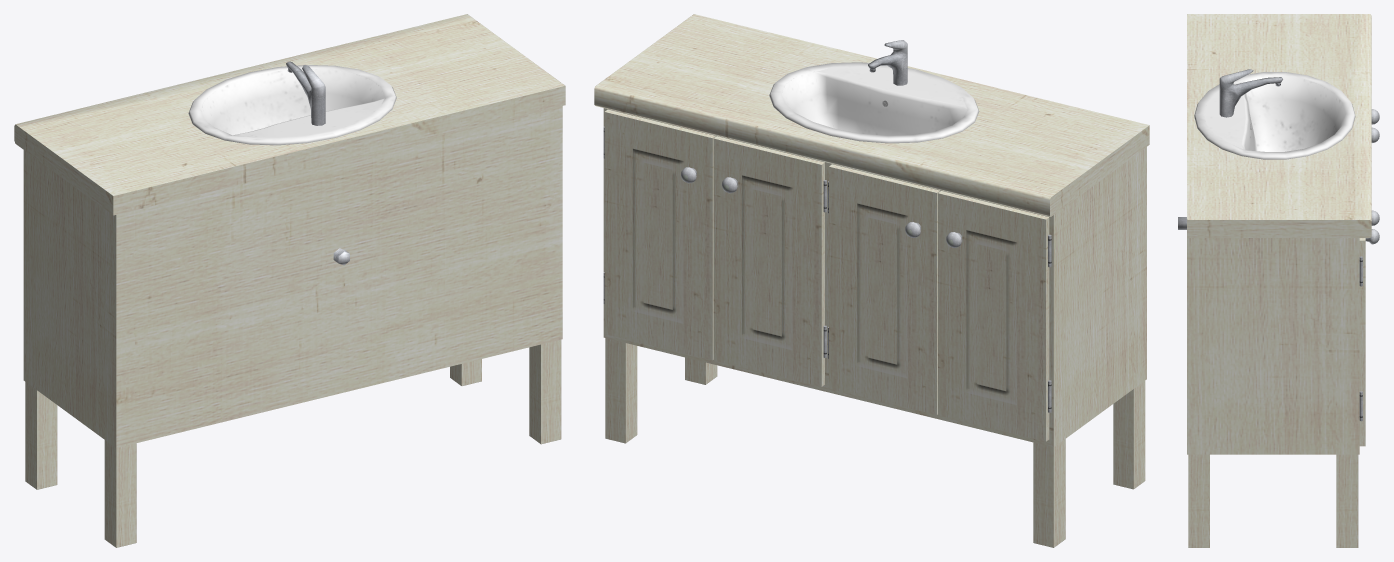
Rendered from washstand.obj.
The picture shows the model from 3 angles, left to right: view 1: azimuth 30°, elevation 25°; view 2: azimuth 150°, elevation 25°; view 3: azimuth 270°, elevation 25°; orthographic projection. The views are drawn at different scales.
Parts seen in each view (by area): view 1: mesh; view 2: mesh; view 3: mesh.
Part boxes in pixels (bbox=[...]): mesh: bbox=[14, 14, 565, 547]; mesh: bbox=[594, 14, 1149, 547]; mesh: bbox=[1178, 14, 1379, 547].
Bounding box in the file's own units: 54.49 × 46.55 × 22.55.
Materials: 1 (1 with a texture image).
